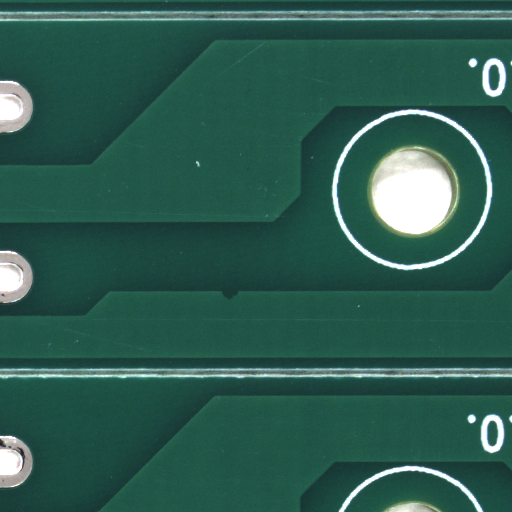Mouse_bite: (230, 294, 245, 303)
